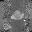people: (10, 10, 24, 20)
